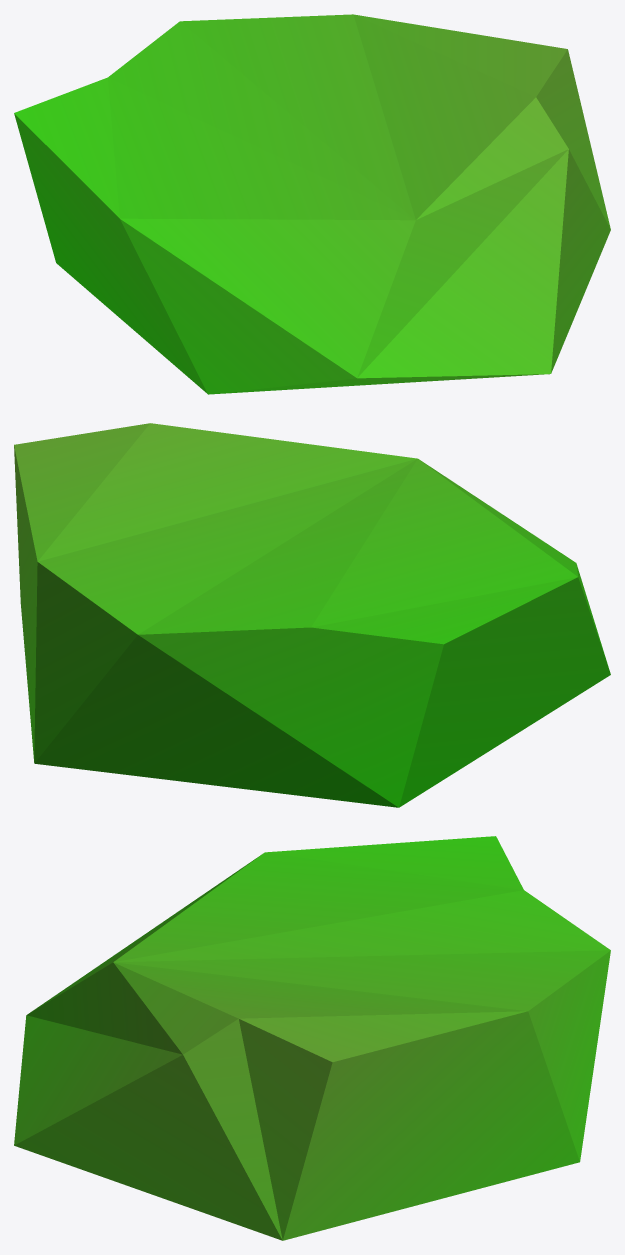
File: Malachite.fbx
The picture shows the model from 3 angles, top to bottom: view 1: azimuth 30°, elevation 25°; view 2: azimuth 150°, elevation 25°; view 3: azimuth 270°, elevation 25°; orthographic projection. The views are drawn at different scales.
Visible parts, largest first — view 1: MALACHITE.001; view 2: MALACHITE.001; view 3: MALACHITE.001.
Boxes of the visible parts, x1=… form: MALACHITE.001: x1=14, y1=14, x2=610, y2=394; MALACHITE.001: x1=14, y1=423, x2=610, y2=807; MALACHITE.001: x1=14, y1=836, x2=610, y2=1240.
Size of the model in its own units: 163 by 53.77 by 167.
1 material, 1 textured.
